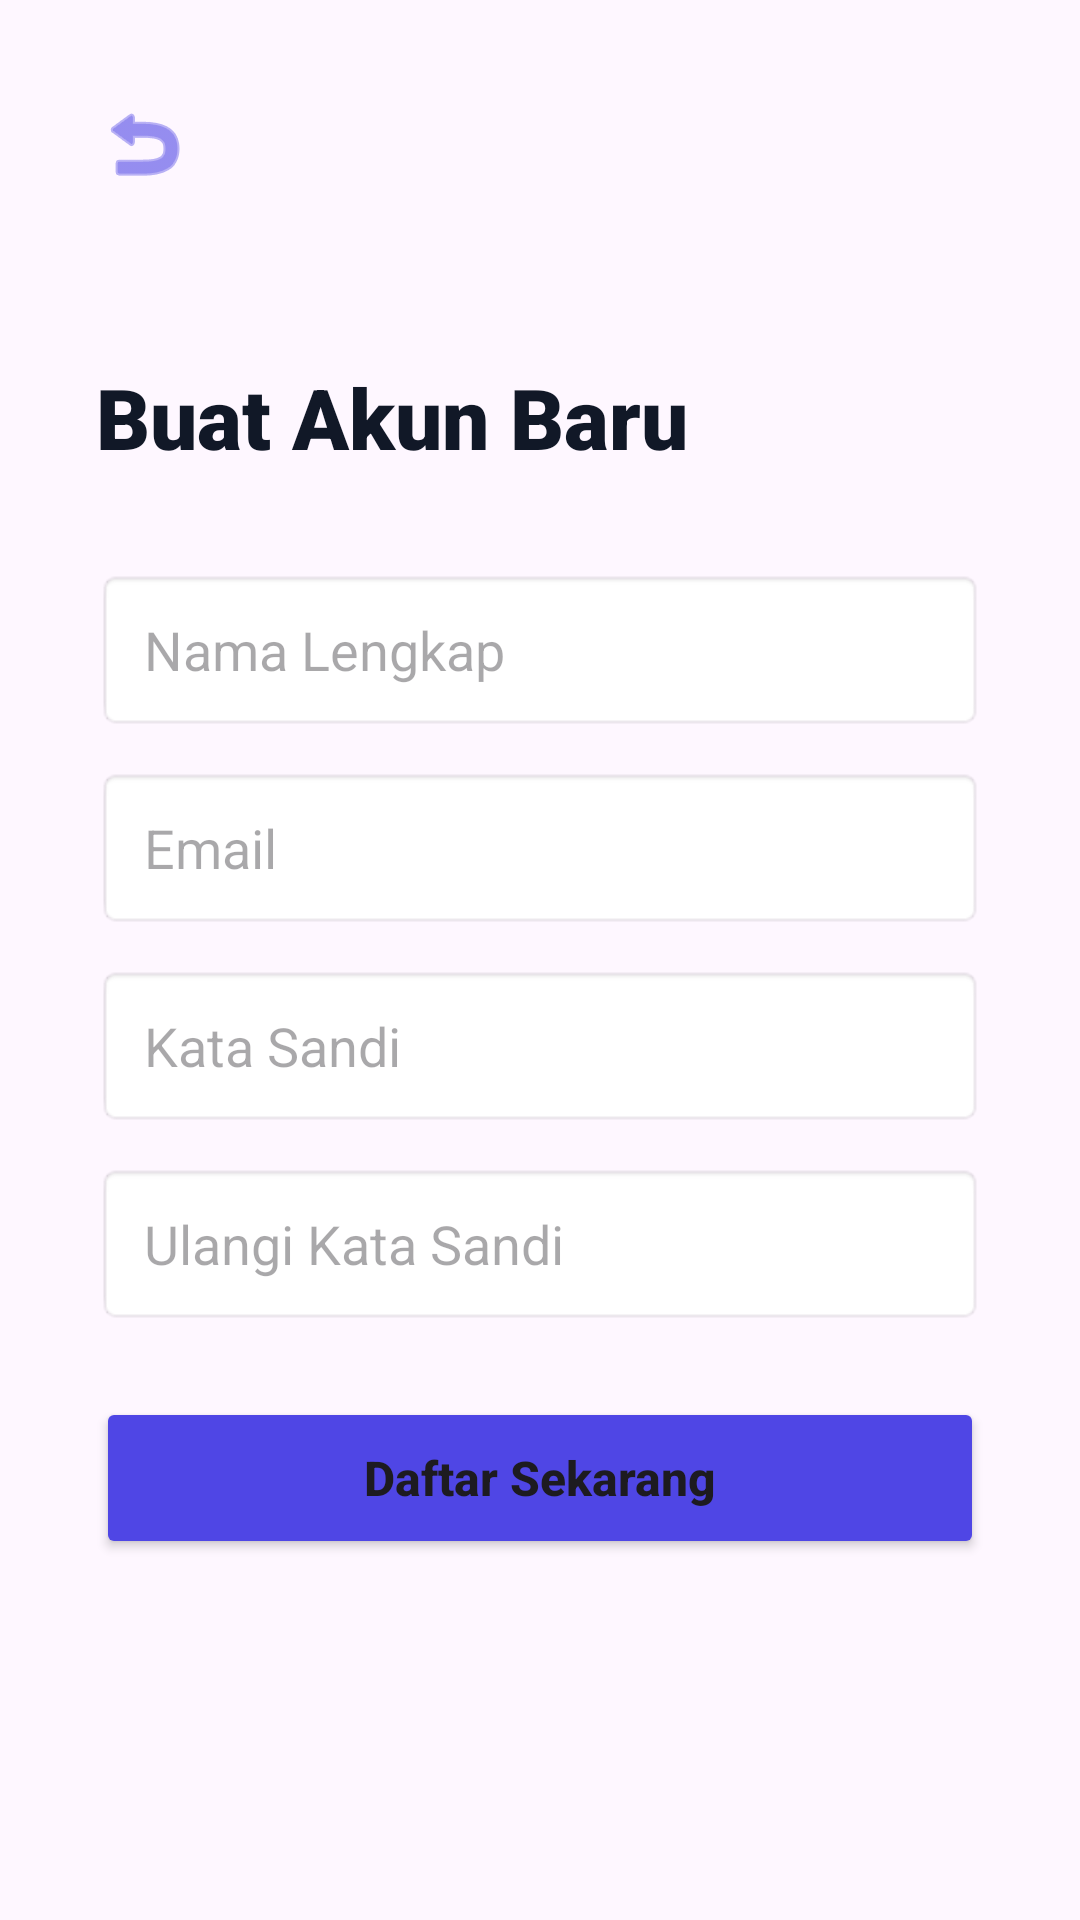

Point at icon controls on the screen. Image size 1080px x 1920px, points as (x=x, y=y).
revert: (x=145, y=144)
